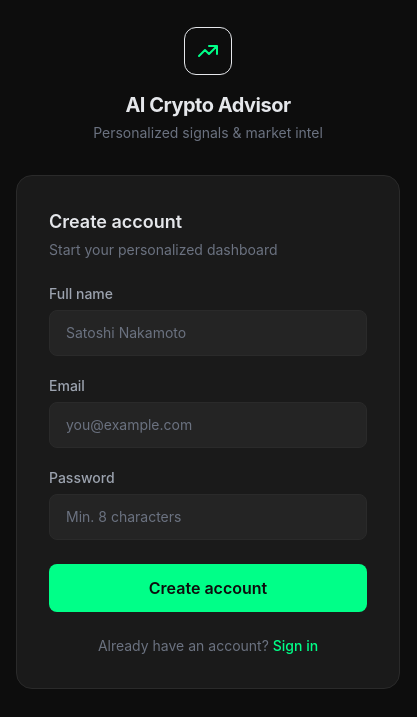
Test: shows duplicate email error from API
Type "Test" into the field with placeholder "Satoshi Nakamoto" at point(208, 333), box [49, 310, 367, 356]
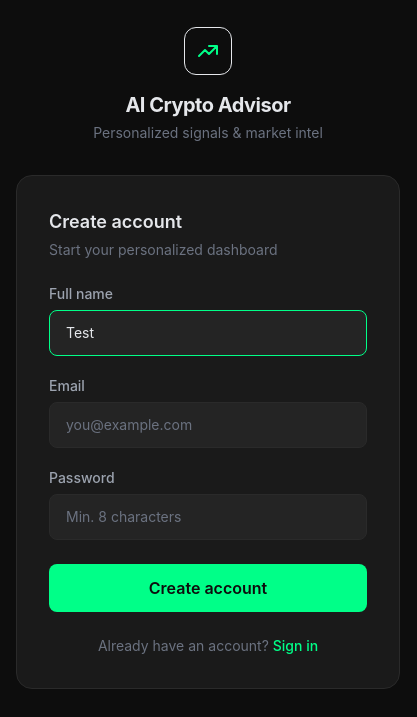
Type "dup@b.com" into the field with placeholder "you@example.com" at point(208, 425), box [49, 402, 367, 448]
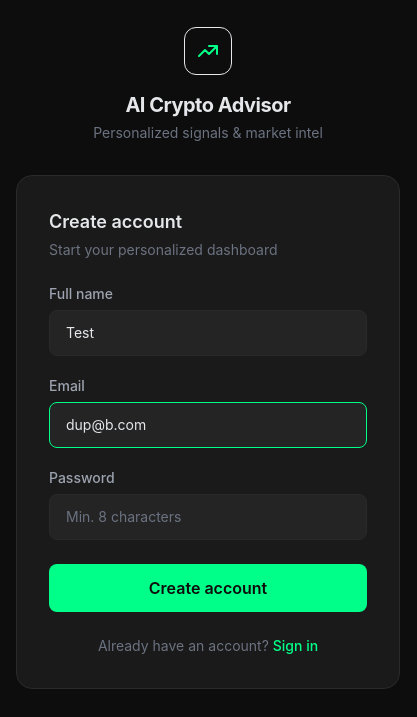
Type "password123" into the password field with placeholder "Min. 8 characters" at point(208, 517), box [49, 494, 367, 540]
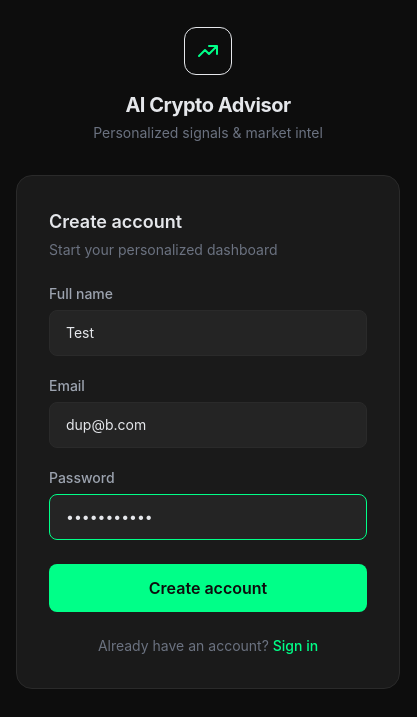
Click the button "Create account" at point(208, 588), box [49, 564, 367, 612]
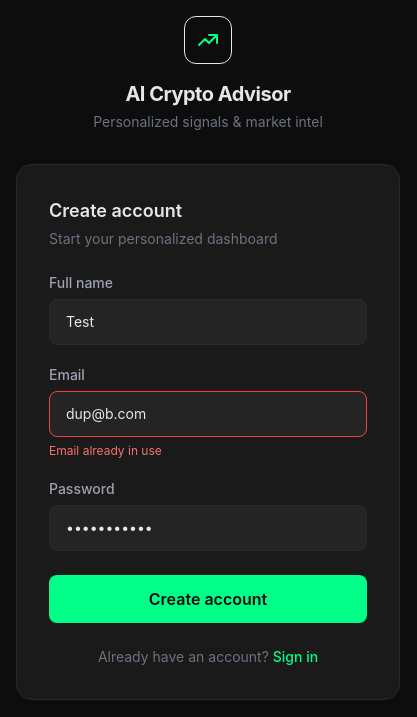
Result: the text "Email already in use" is shown at [49, 443, 162, 458]
